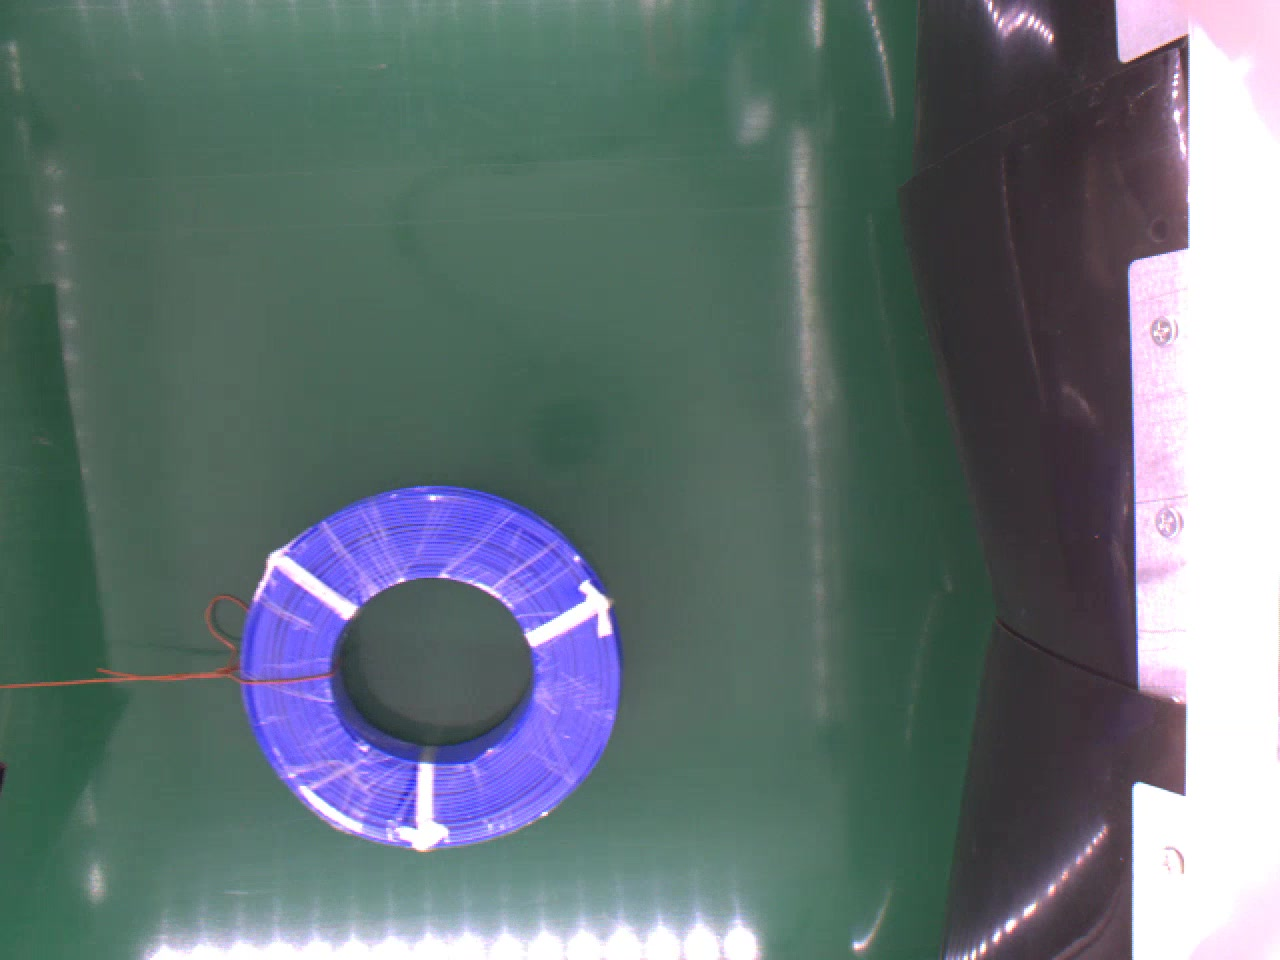blue: (234, 482, 627, 854)
